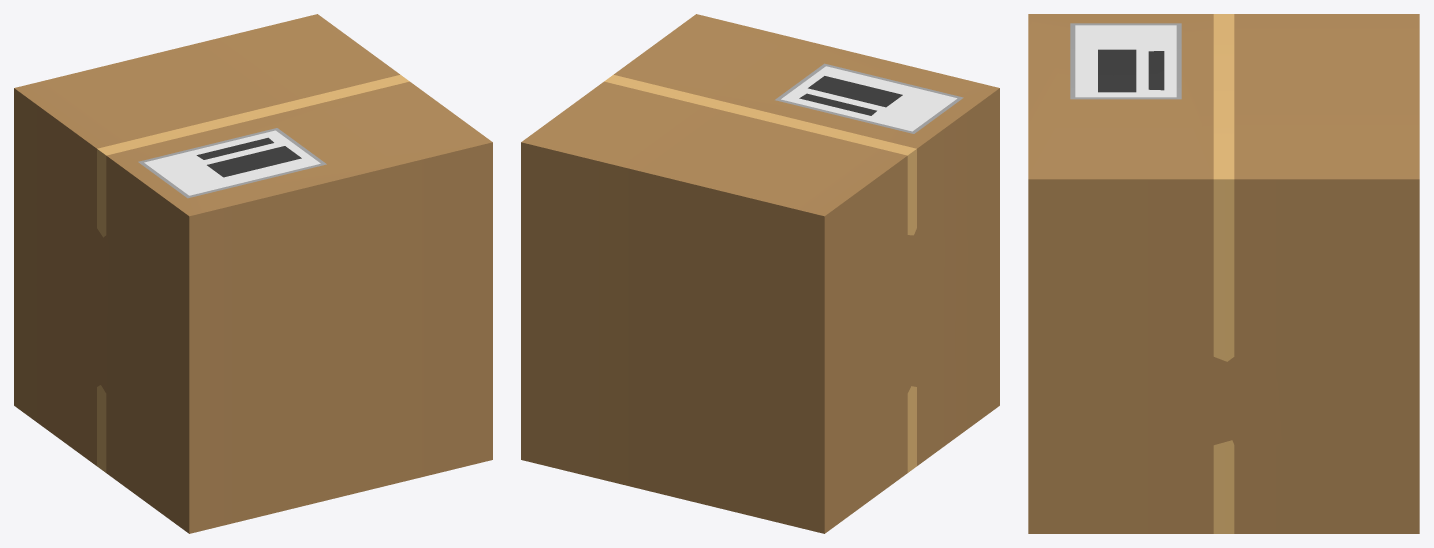
Rendered from Light Packing Box #6.fbx.
The picture shows the model from 3 angles, left to right: view 1: azimuth 30°, elevation 25°; view 2: azimuth 150°, elevation 25°; view 3: azimuth 270°, elevation 25°; orthographic projection. The views are drawn at different scales.
Visible parts, largest first — view 1: Med Light Packing Box #3; view 2: Med Light Packing Box #3; view 3: Med Light Packing Box #3.
Part boxes in pixels (x1,y1,x2,y2): Med Light Packing Box #3: (14, 14, 492, 533); Med Light Packing Box #3: (521, 14, 999, 533); Med Light Packing Box #3: (1028, 14, 1419, 533).
Bounding box in the file's own units: 292 × 292 × 292.
1 material, 1 textured.
